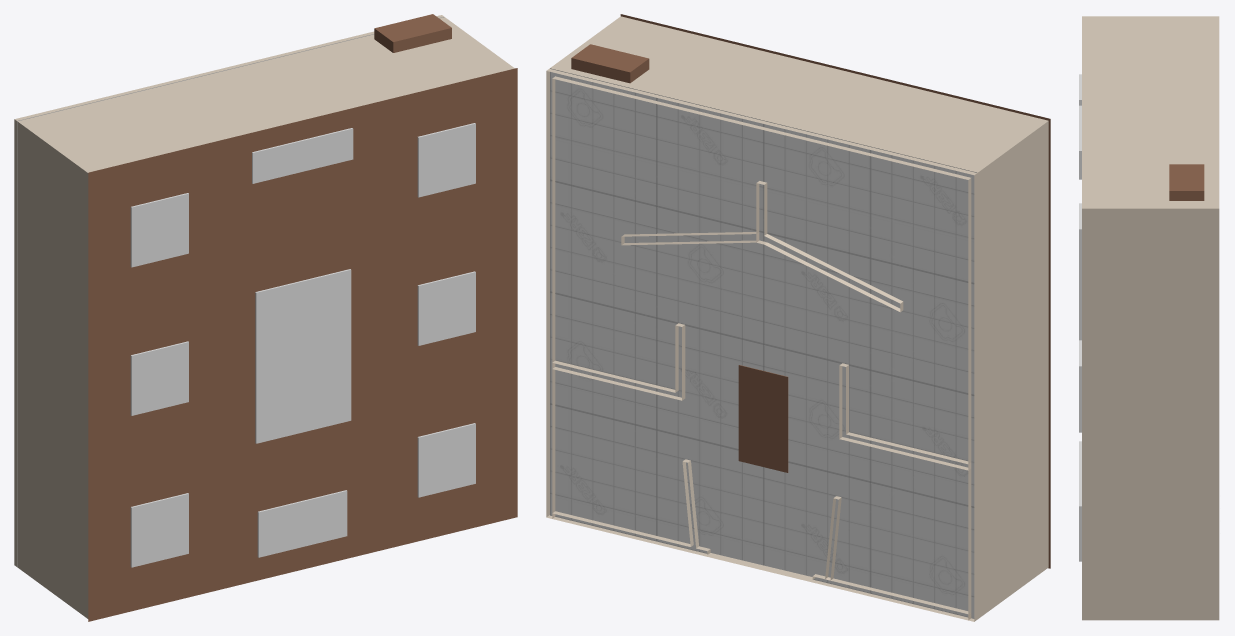
The model's file is museito.glb.
The picture shows the model from 3 angles, left to right: view 1: azimuth 30°, elevation 25°; view 2: azimuth 150°, elevation 25°; view 3: azimuth 270°, elevation 25°; orthographic projection. The views are drawn at different scales.
Visible parts, largest first — view 1: Plano, Pared, Faroles, mesa, cuadrícula; view 2: cuadrícula, Pared, mesa, Plano; view 3: Pared, Faroles, mesa.
Boxes of the visible parts, bbox=[...] form: Plano: bbox=[88, 68, 517, 621]; Pared: bbox=[14, 15, 514, 618]; Faroles: bbox=[130, 123, 475, 567]; mesa: bbox=[374, 14, 451, 52]; cuadrícula: bbox=[17, 17, 443, 567]; cuadrícula: bbox=[550, 68, 976, 618]; Pared: bbox=[546, 16, 1048, 621]; mesa: bbox=[571, 44, 788, 472]; Plano: bbox=[620, 14, 1050, 568]; Pared: bbox=[1082, 16, 1219, 620]; Faroles: bbox=[1079, 74, 1081, 561]; mesa: bbox=[1169, 164, 1204, 200].
Bounding box in the file's own units: 14.61 × 14.91 × 4.53.
Materials: 14 (5 with a texture image).
